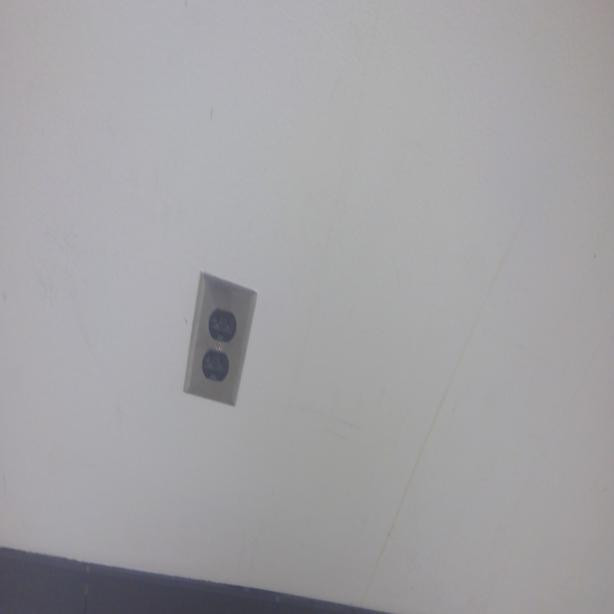typeb: (210, 308, 234, 344), (203, 351, 229, 383)
